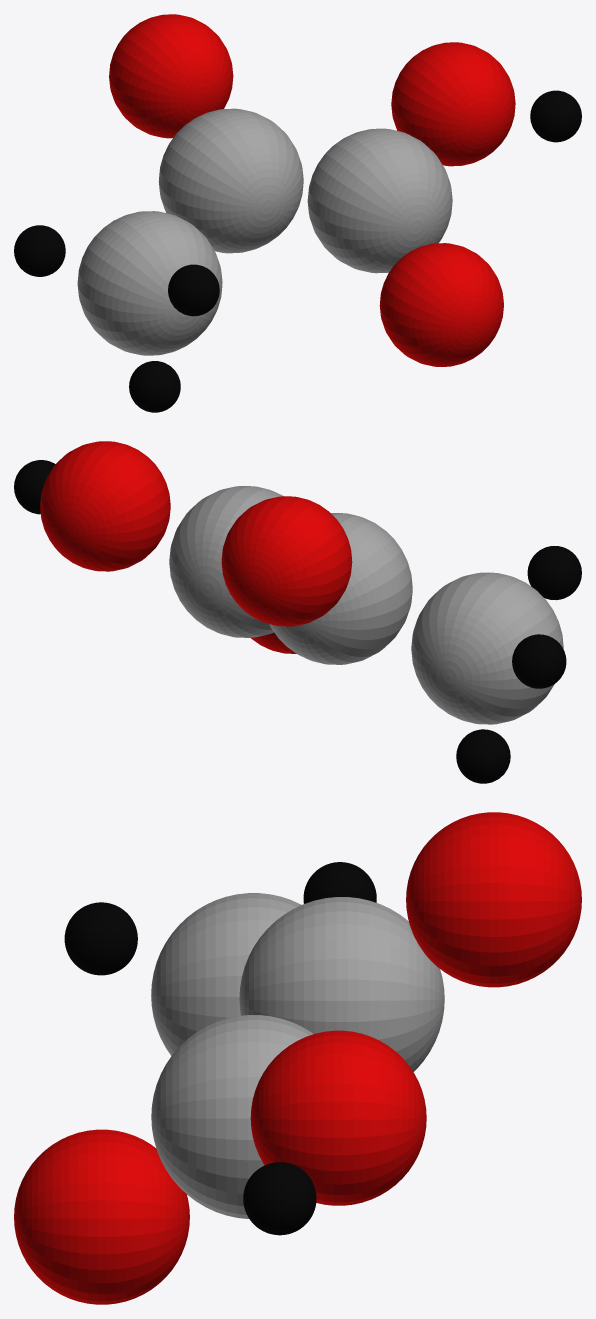
The model's file is Pyruvic Acid.glb.
The picture shows the model from 3 angles, top to bottom: view 1: azimuth 30°, elevation 25°; view 2: azimuth 150°, elevation 25°; view 3: azimuth 270°, elevation 25°; orthographic projection. The views are drawn at different scales.
Parts seen in each view (by area): view 1: world; view 2: world; view 3: world.
Part boxes in pixels (<box>): world: <box>14,14,581,412</box>; world: <box>14,441,581,783</box>; world: <box>14,812,581,1304</box>.
Bounding box in the file's own units: 6.02 × 3.22 × 3.87.
